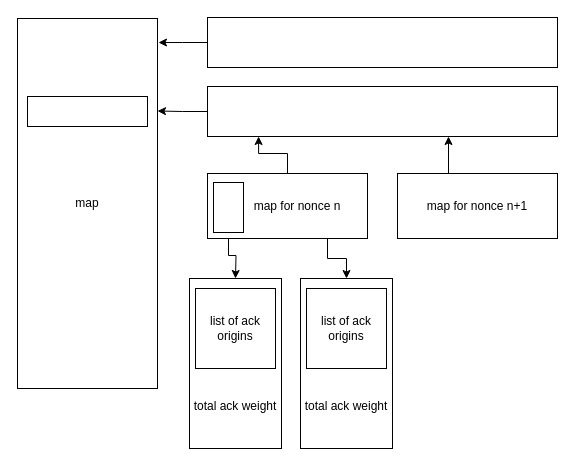
This 575x466 diagram has some shape labels left out. Here are the shapes that lost their labels. From the top down, the centre of each, then its label:
At pixel 87 111: "tx sender".
At pixel 382 111: "nonce Heap".
At pixel 228 207: "tx hash".
